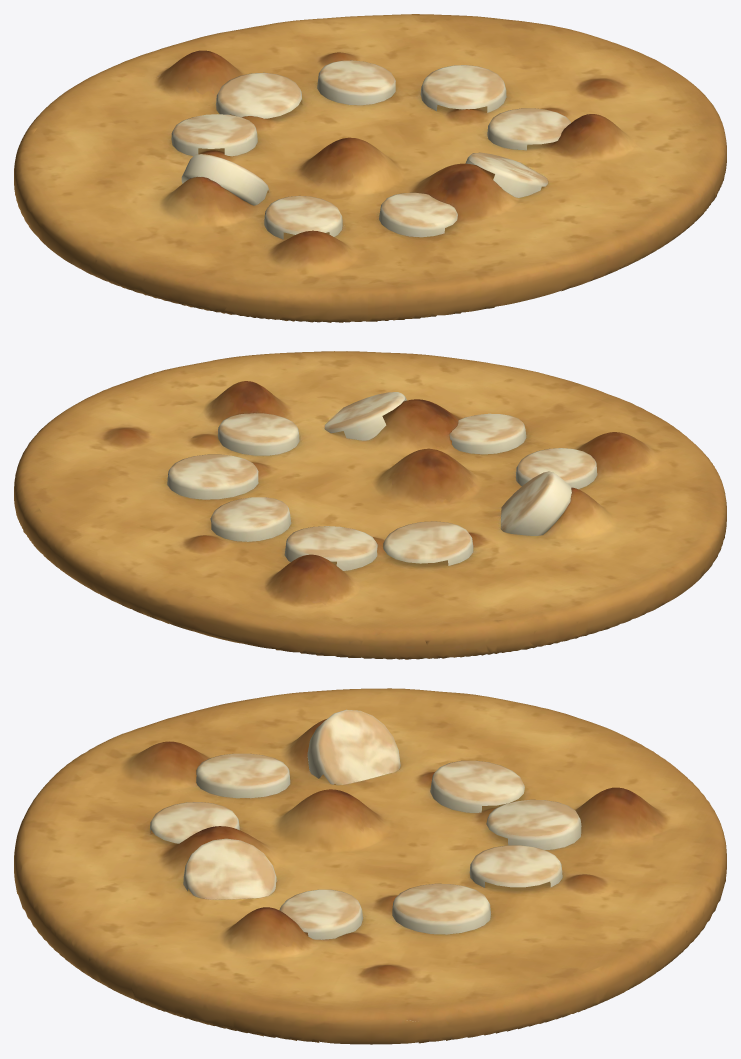
The model's file is flatbread--banana-slice.glb.
The picture shows the model from 3 angles, top to bottom: view 1: azimuth 30°, elevation 25°; view 2: azimuth 150°, elevation 25°; view 3: azimuth 270°, elevation 25°; orthographic projection. The views are drawn at different scales.
Visible parts, largest first — view 1: flatbread_banana-slice; view 2: flatbread_banana-slice; view 3: flatbread_banana-slice.
Boxes of the visible parts, x1=… form: flatbread_banana-slice: x1=14, y1=14, x2=726, y2=322; flatbread_banana-slice: x1=14, y1=351, x2=726, y2=659; flatbread_banana-slice: x1=14, y1=688, x2=726, y2=1044.
Bounding box in the file's own units: 0.9981 × 0.1116 × 0.9017.
Materials: 1 (1 with a texture image).
